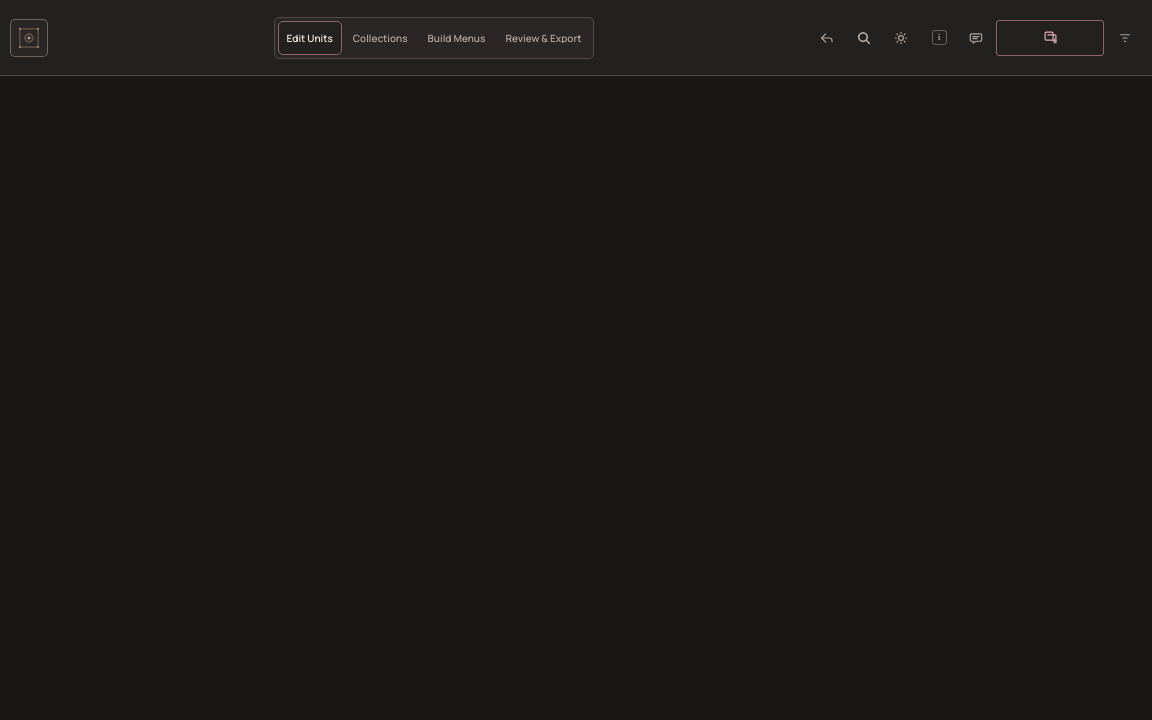
Test: AppHeader › owns the Tools menu lifecycle and closes it after selection
Click the button named "Tools".
click(1125, 38)  # box [1108,20,1142,54]
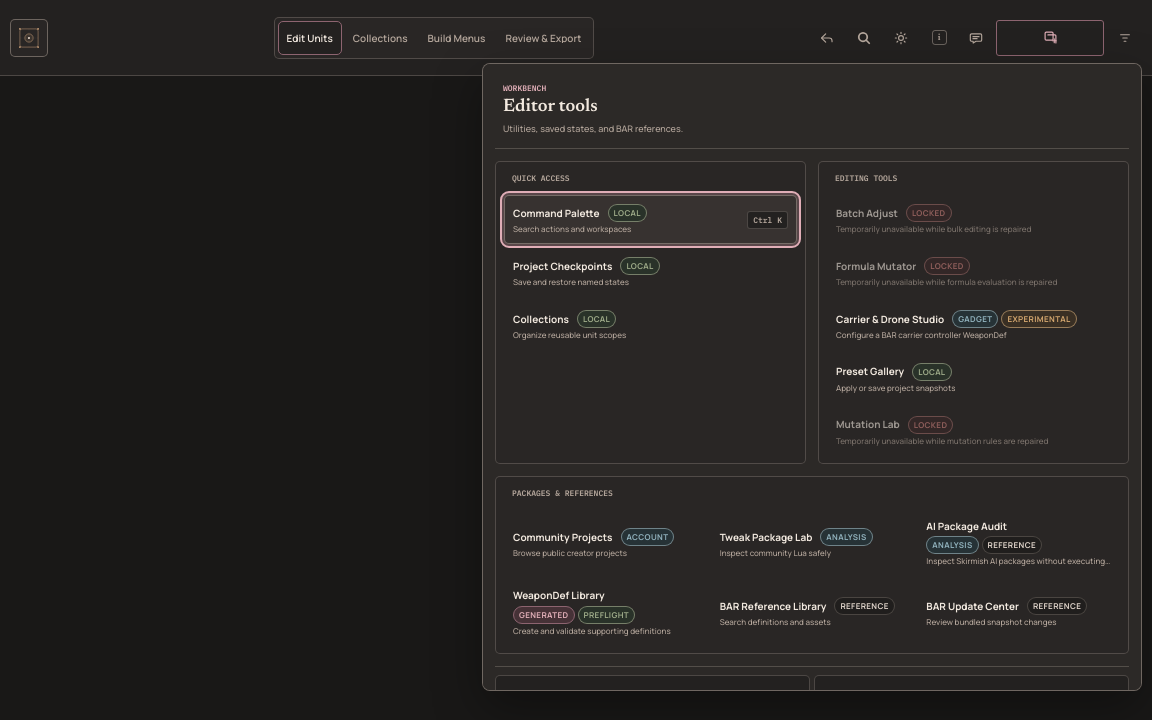
Now the menu "Editor tools" is shown, box [482,62,1142,690]
Click the menu item "Project Checkpoints Local Save and restore named states".
click(650, 272)  # box [504,248,797,297]
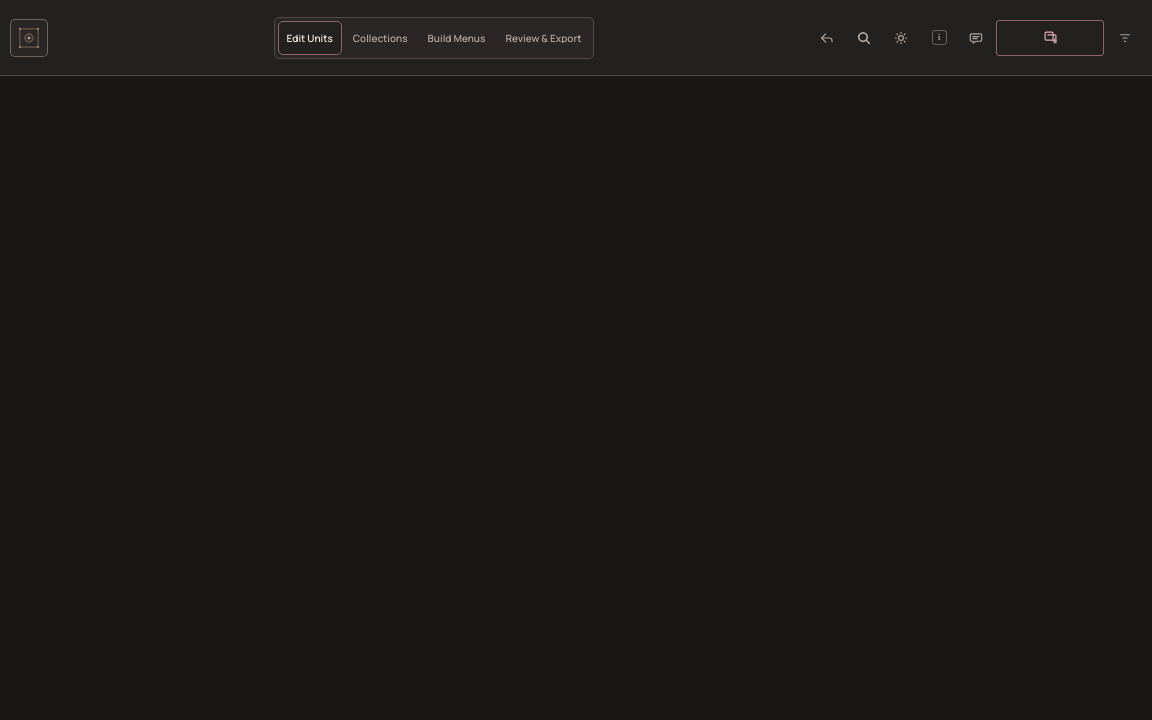
Now the text "Editor tools" is gone
